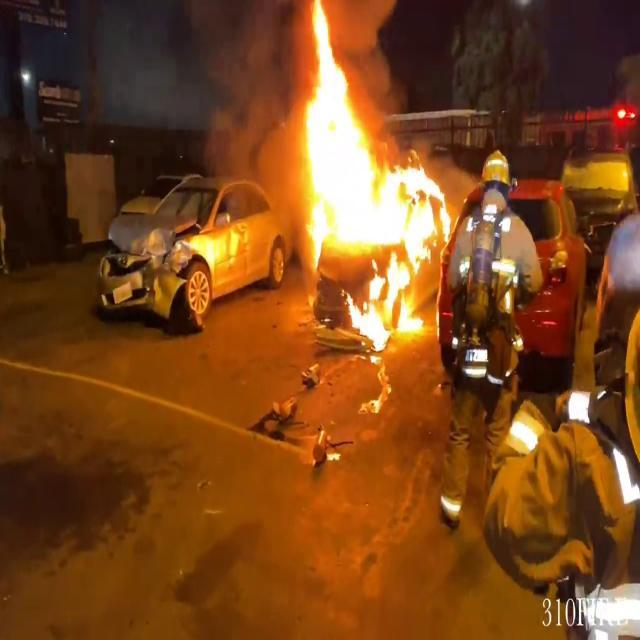Fire: (310, 144, 460, 345), (296, 0, 386, 212)
Smoke: (194, 8, 304, 195)
